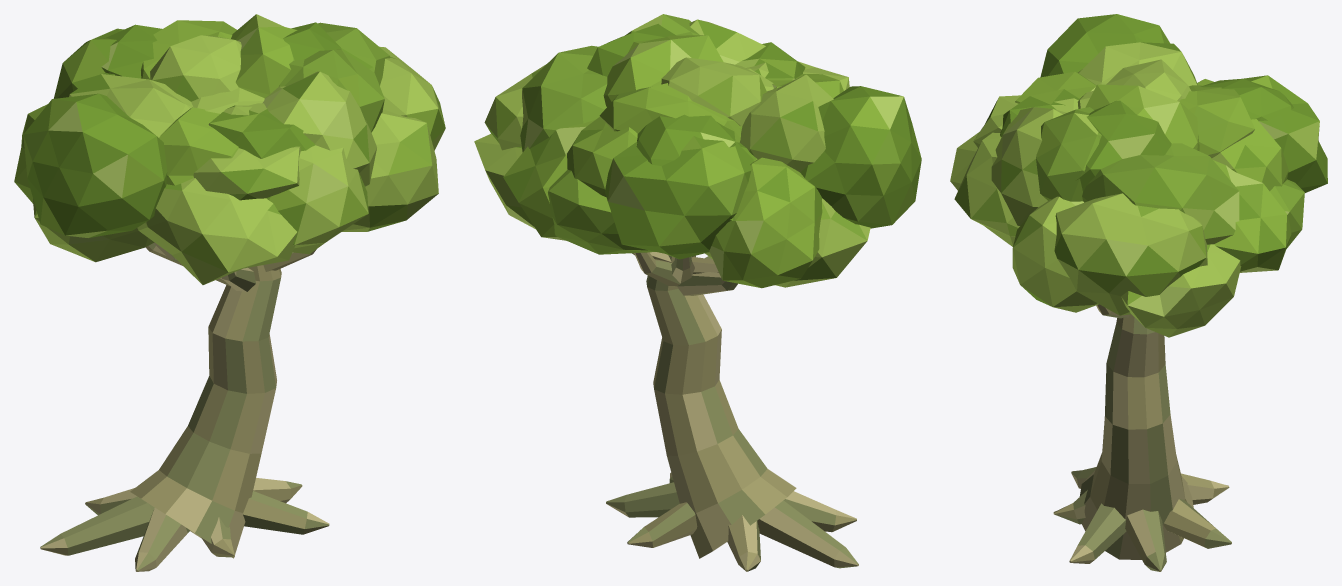
File: oak.fbx
The picture shows the model from 3 angles, left to right: view 1: azimuth 30°, elevation 25°; view 2: azimuth 150°, elevation 25°; view 3: azimuth 270°, elevation 25°; orthographic projection. The views are drawn at different scales.
Visible parts, largest first — view 1: Twisting trunk, Outer foliage 04, Outer foliage 07, Outer foliage 05, Outer foliage 02, Outer foliage 10, Upper foliage 18, Upper foliage 15, Upper foliage 00, Upper foliage 13, Upper foliage 04, Buttress root 03 (+17 smaller); view 2: Twisting trunk, Outer foliage 06, Outer foliage 04, Outer foliage 01, Upper foliage 00, Upper foliage 05, Upper foliage 18, Outer foliage 11, Outer foliage 03, Upper foliage 13, Upper foliage 03, Buttress root 03 (+16 smaller); view 3: Twisting trunk, Outer foliage 00, Upper foliage 05, Outer foliage 08, Outer foliage 05, Outer foliage 03, Outer foliage 10, Upper foliage 02, Outer foliage 04, Outer foliage 06, Upper foliage 01, Outer foliage 02 (+16 smaller).
Boxes of the visible parts, left/top/right/bottom form: Twisting trunk: left=130, top=265, right=281, bottom=558; Outer foliage 04: left=23, top=93, right=167, bottom=237; Outer foliage 07: left=137, top=178, right=297, bottom=284; Outer foliage 05: left=342, top=109, right=438, bottom=231; Outer foliage 02: left=266, top=145, right=368, bottom=254; Outer foliage 10: left=262, top=71, right=376, bottom=186; Upper foliage 18: left=150, top=35, right=241, bottom=101; Upper foliage 15: left=193, top=146, right=300, bottom=200; Upper foliage 00: left=69, top=74, right=192, bottom=137; Upper foliage 13: left=231, top=14, right=297, bottom=98; Upper foliage 04: left=159, top=107, right=238, bottom=185; Buttress root 03: left=40, top=496, right=154, bottom=555; Twisting trunk: left=646, top=255, right=796, bottom=558; Outer foliage 06: left=604, top=136, right=753, bottom=259; Outer foliage 04: left=800, top=86, right=921, bottom=228; Outer foliage 01: left=709, top=157, right=822, bottom=288; Upper foliage 00: left=740, top=74, right=833, bottom=172; Upper foliage 05: left=520, top=45, right=607, bottom=152; Upper foliage 18: left=661, top=57, right=766, bottom=126; Outer foliage 11: left=548, top=169, right=655, bottom=254; Outer foliage 03: left=503, top=119, right=595, bottom=240; Upper foliage 13: left=603, top=35, right=723, bottom=106; Upper foliage 03: left=599, top=83, right=740, bottom=142; Buttress root 03: left=757, top=500, right=858, bottom=568; Twisting trunk: left=1079, top=314, right=1193, bottom=559; Outer foliage 00: left=1054, top=193, right=1207, bottom=315; Upper foliage 05: left=1082, top=143, right=1239, bottom=244; Outer foliage 08: left=1121, top=244, right=1241, bottom=337; Outer foliage 05: left=1012, top=196, right=1098, bottom=312; Outer foliage 03: left=1213, top=160, right=1291, bottom=272; Outer foliage 10: left=991, top=107, right=1066, bottom=226; Upper foliage 02: left=1036, top=107, right=1101, bottom=201; Outer foliage 04: left=1040, top=14, right=1170, bottom=77; Outer foliage 06: left=1244, top=75, right=1327, bottom=192; Upper foliage 01: left=1076, top=100, right=1171, bottom=191; Outer foliage 02: left=954, top=132, right=1019, bottom=246.
Size of the model in its own units: 546 by 654 by 455.
